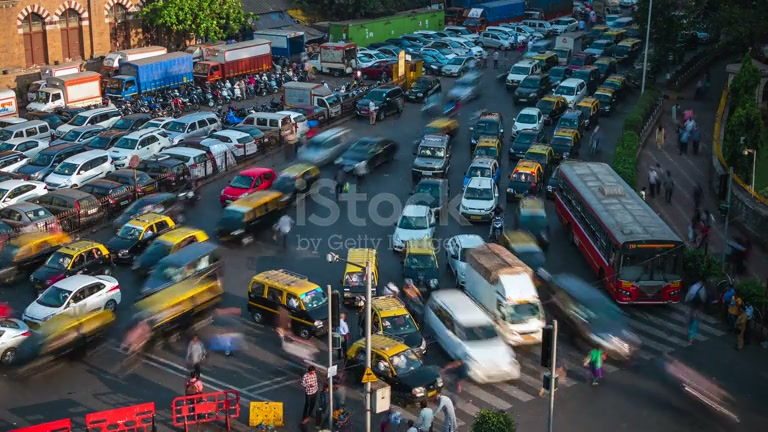bus: (550, 160, 687, 307), (192, 41, 274, 85), (459, 157, 499, 222)
car: (536, 268, 643, 366), (451, 240, 546, 347), (131, 238, 226, 340), (424, 286, 522, 384), (20, 272, 122, 349), (344, 334, 443, 401), (245, 268, 331, 338), (22, 272, 121, 326), (215, 183, 295, 241), (29, 238, 114, 290), (370, 295, 428, 363), (104, 212, 176, 265), (27, 187, 106, 231), (78, 168, 158, 211), (41, 148, 114, 191), (390, 195, 439, 255), (334, 135, 399, 178), (459, 159, 499, 222), (219, 166, 277, 207), (401, 237, 444, 290), (0, 318, 43, 365), (272, 160, 322, 195), (210, 127, 260, 160), (413, 178, 450, 221)
pedestrian: (301, 365, 320, 422), (184, 335, 207, 378), (583, 345, 606, 386), (733, 304, 748, 350), (417, 398, 435, 431)
